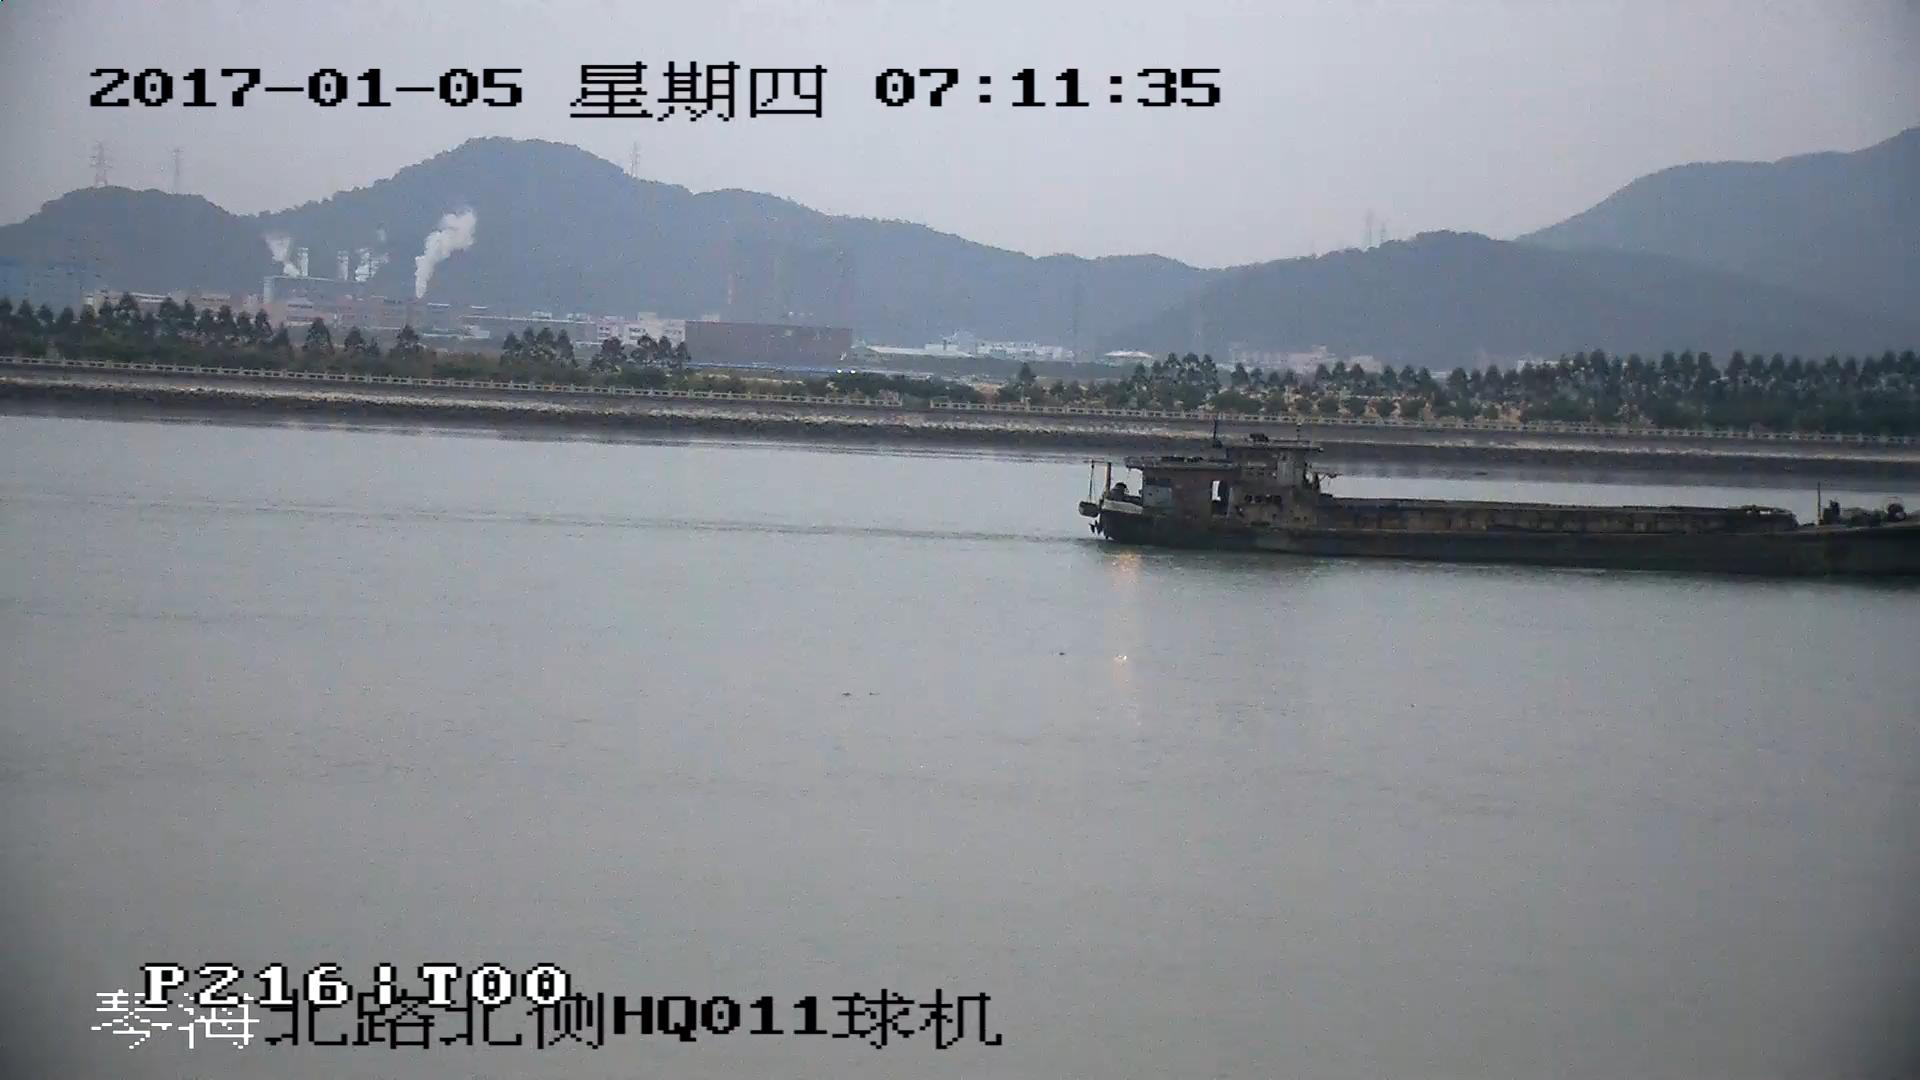bulk cargo carrier: (1078, 429, 1920, 583)
